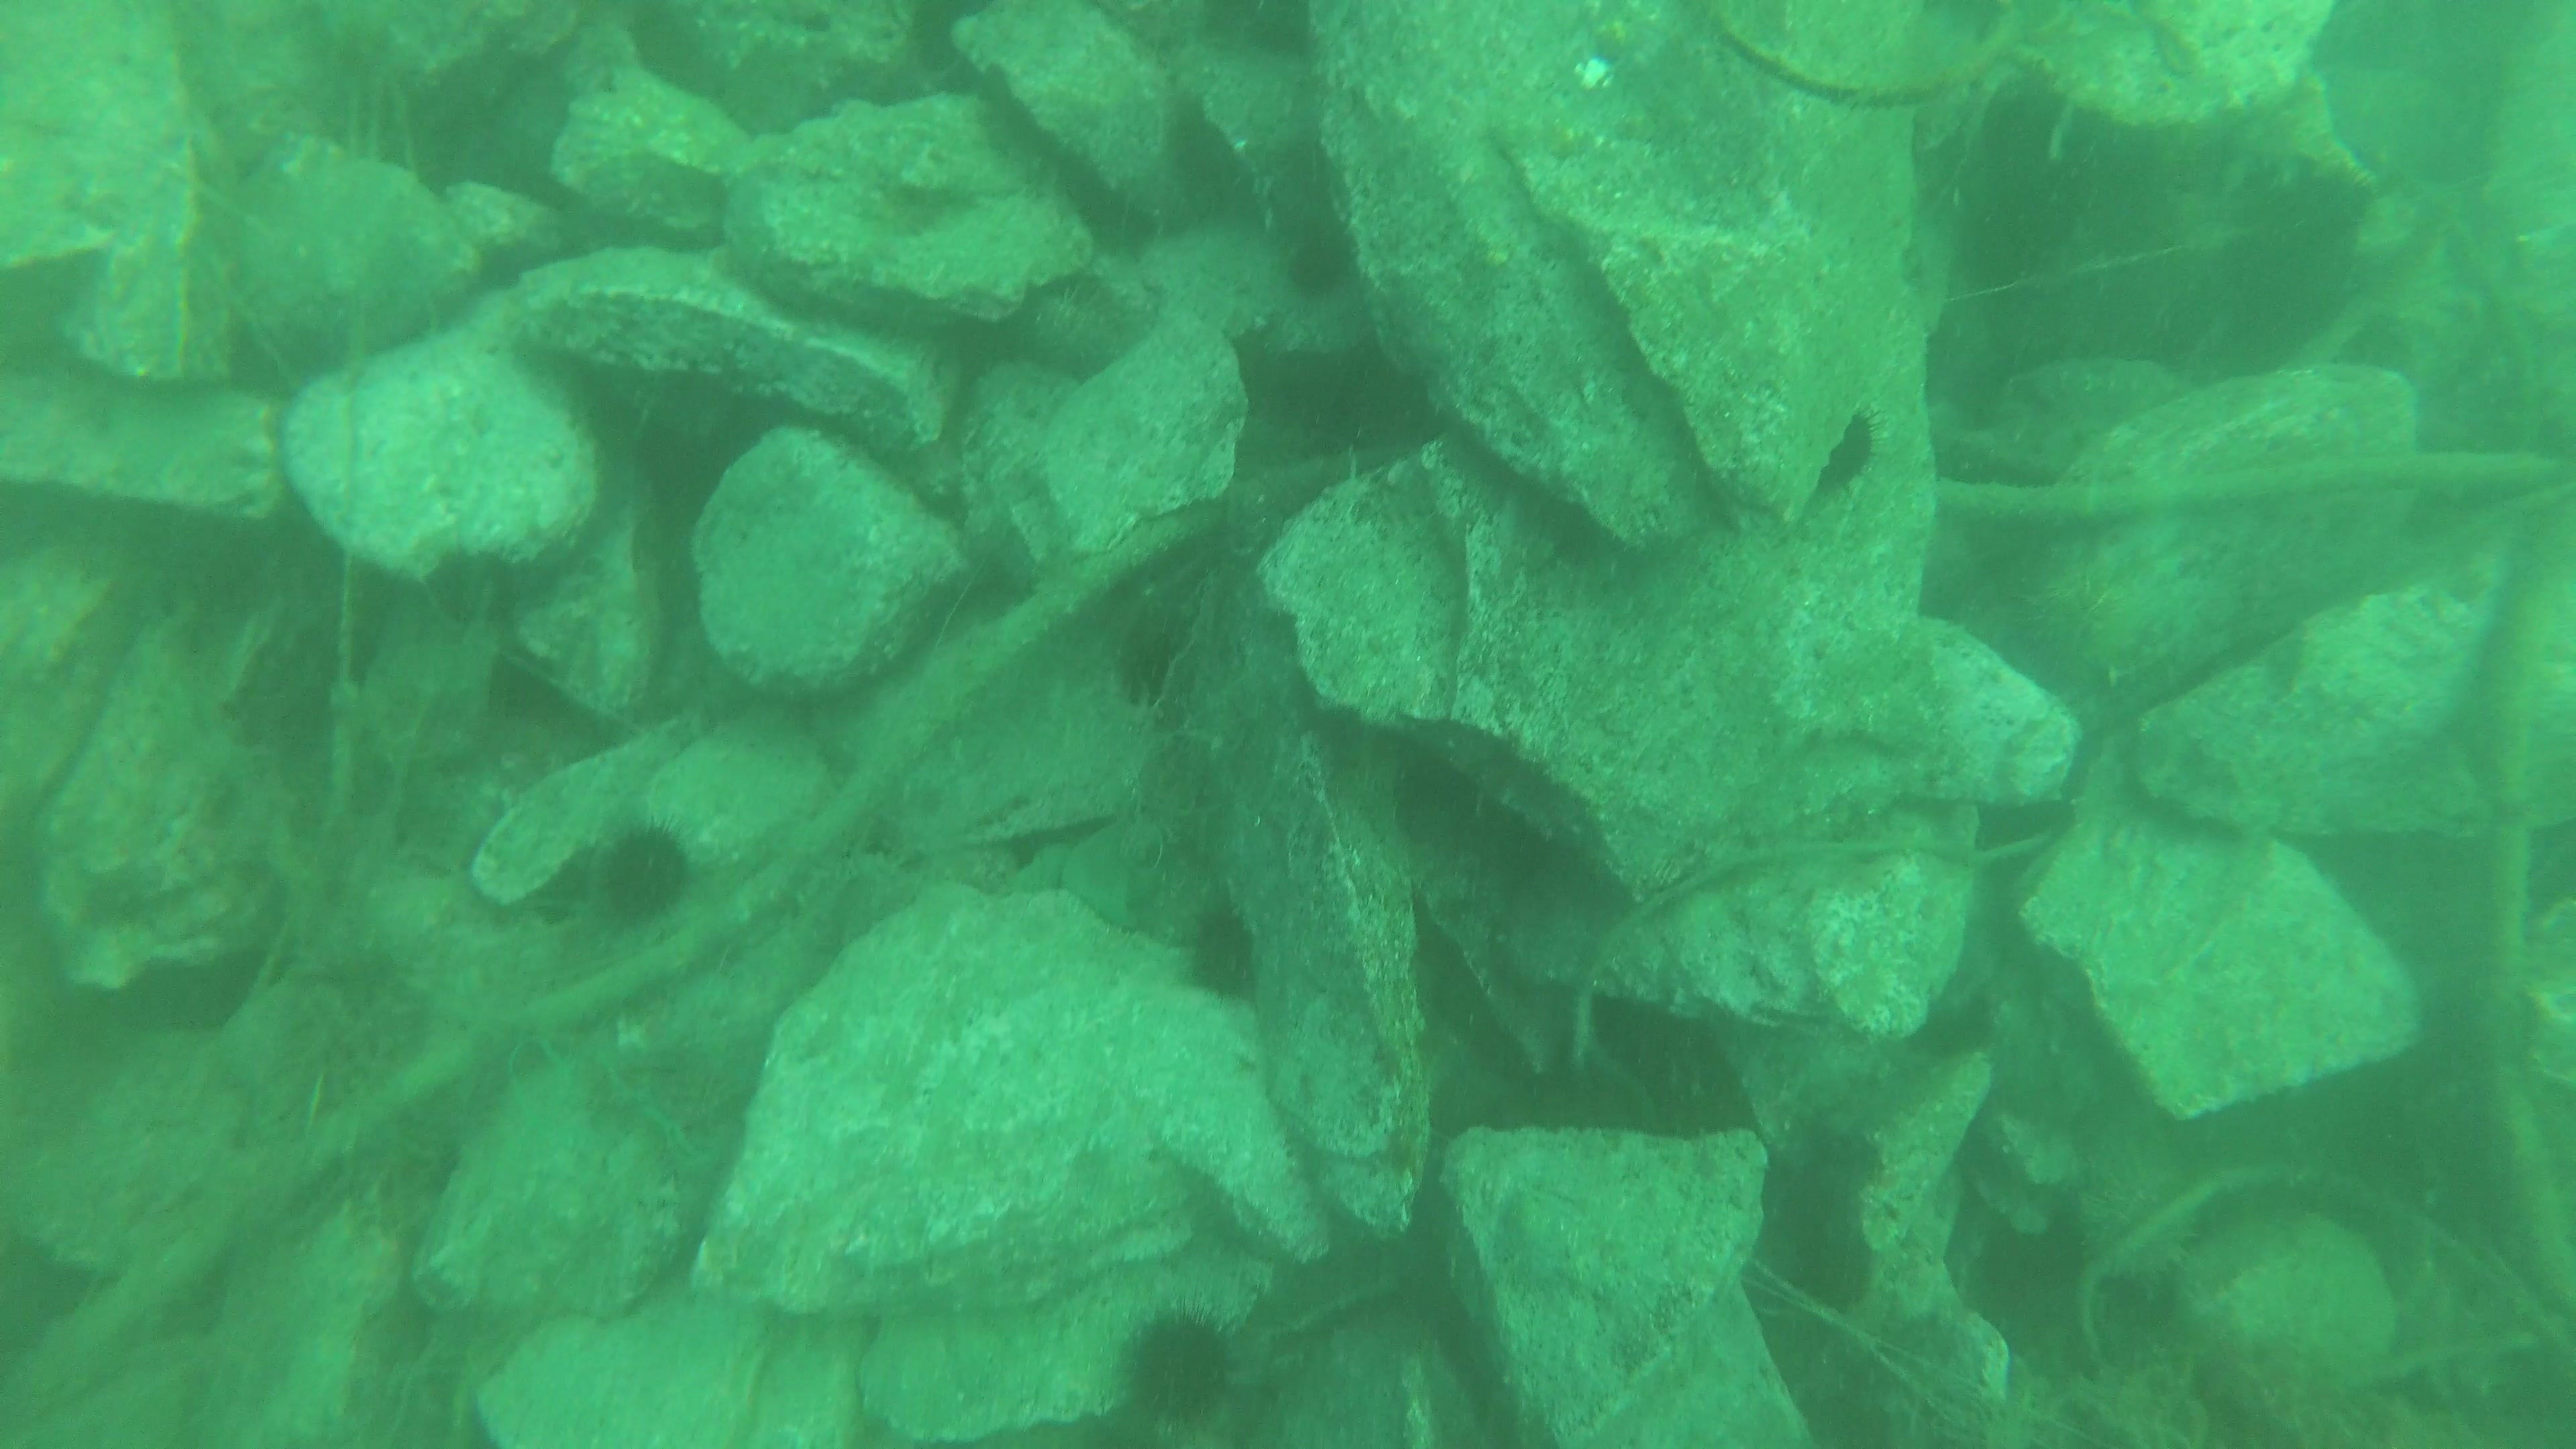echinus: (1127, 1302, 1235, 1422), (594, 826, 694, 922), (1187, 904, 1267, 1000), (1821, 409, 1881, 497), (1284, 225, 1353, 299)
